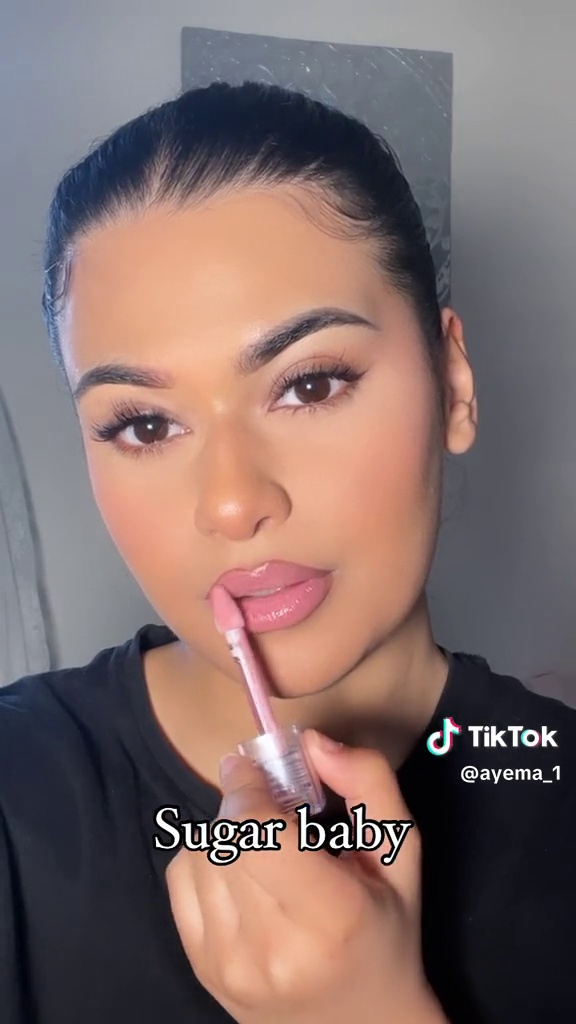train' :'yolo_data/train/images',: (202, 577, 333, 823)
